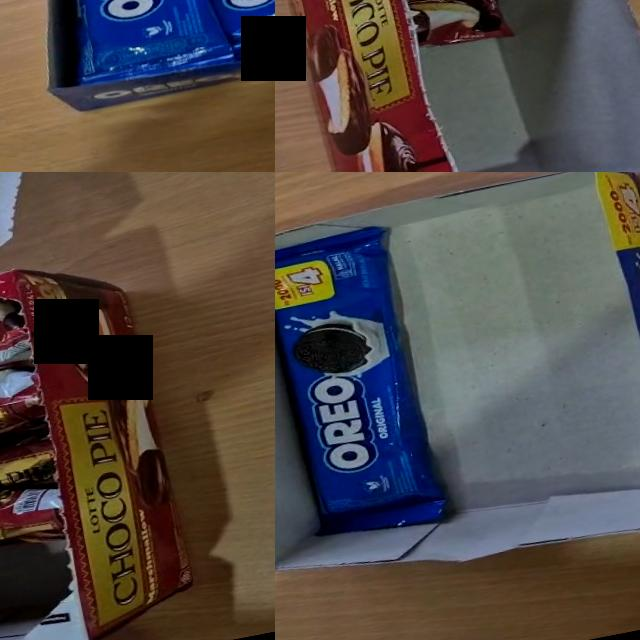Chocopie: (403, 0, 515, 55), (0, 488, 62, 542), (0, 434, 54, 491), (0, 370, 44, 433)
Oreo: (275, 221, 454, 549), (37, 0, 238, 91)
